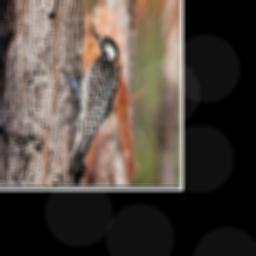Woodpecker: (51, 23, 127, 184)
